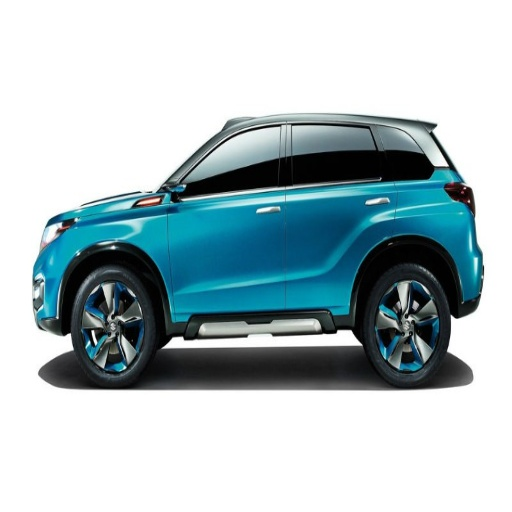back_left_door: (286, 121, 395, 304)
front_left_door: (169, 122, 287, 313)
